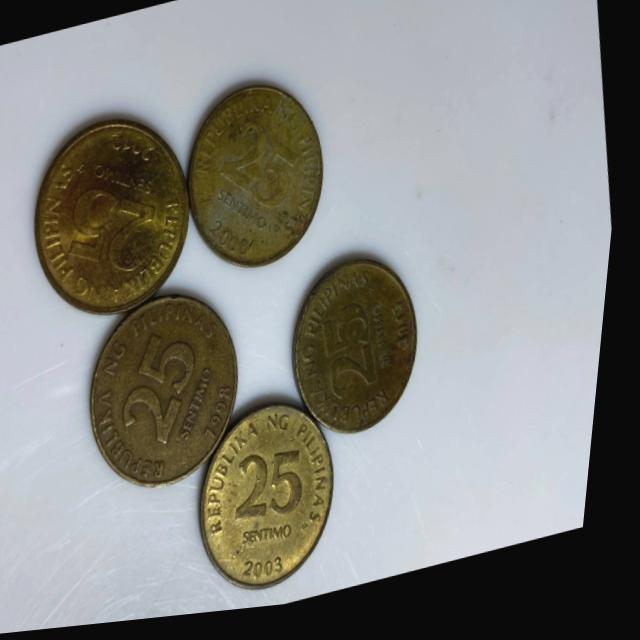25Cent_Old_Front: (56, 171, 172, 288), (115, 330, 218, 455), (216, 114, 309, 223), (231, 447, 320, 540), (322, 309, 391, 410)
